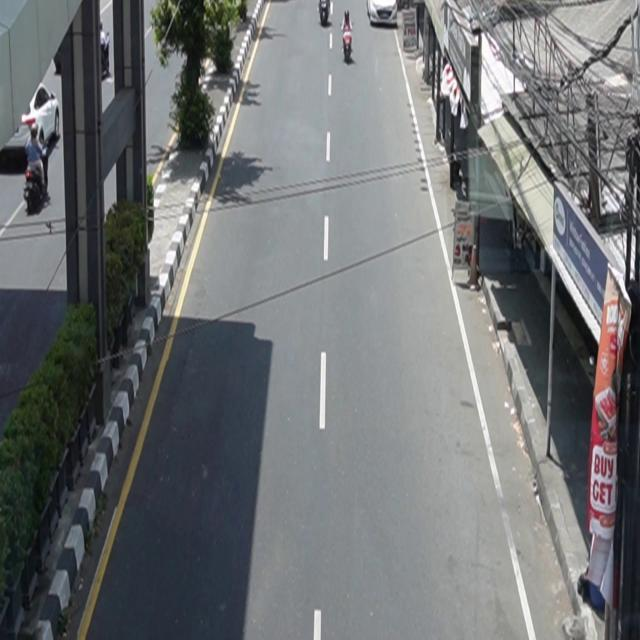car: (22, 83, 61, 147), (367, 1, 399, 27)
